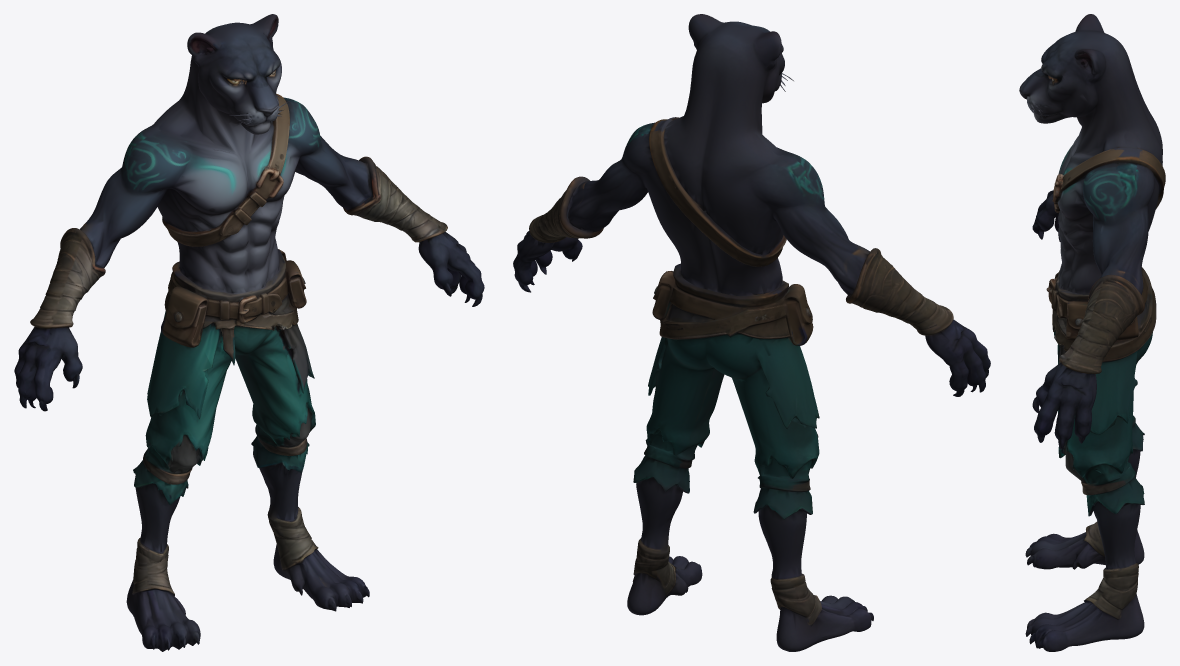
3 views of the same model, side by side, from view 1: azimuth 30°, elevation 25°; view 2: azimuth 150°, elevation 25°; view 3: azimuth 270°, elevation 25° (orthographic). The views are drawn at different scales.
Visible parts, largest first — view 1: Mesh_0; view 2: Mesh_0; view 3: Mesh_0.
Part boxes in pixels (box(x1,y1,x2,y2)): Mesh_0: box(14, 14, 484, 651); Mesh_0: box(513, 14, 990, 651); Mesh_0: box(1019, 14, 1165, 651).
Size of the model in its own units: 0.9181 by 1.11 by 0.2598.
Materials: 1 (1 with a texture image).
